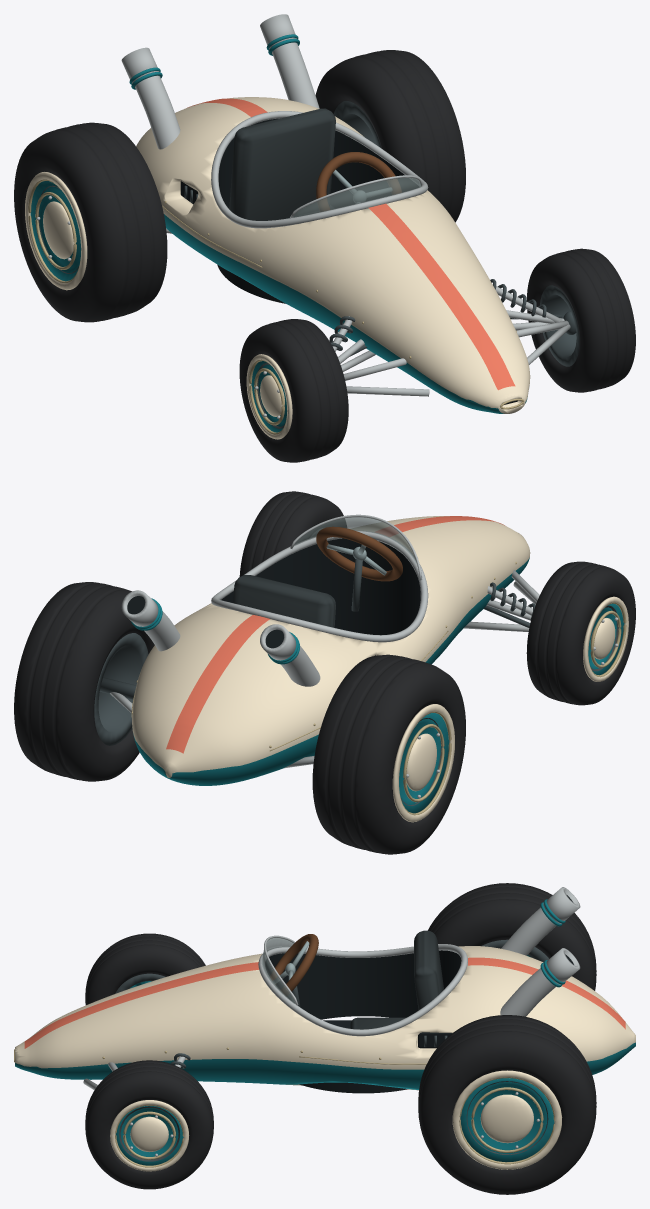
The model's file is streamliner.glb.
3 views of the same model, one above another, from view 1: azimuth 30°, elevation 25°; view 2: azimuth 150°, elevation 25°; view 3: azimuth 270°, elevation 25° (orthographic). The views are drawn at different scales.
Visible parts, largest first — view 1: Streamliner_Static, Streamliner_Spin_RL_Mesh, Streamliner_Spin_RR_Mesh, Streamliner_Spin_FL_Mesh, Streamliner_Spin_FR_Mesh, Streamliner_Seat_Root_Mesh, Streamliner_SteeringWheel_Spin_Mesh; view 2: Streamliner_Static, Streamliner_Spin_RL_Mesh, Streamliner_Spin_RR_Mesh, Streamliner_Spin_FL_Mesh, Streamliner_Spin_FR_Mesh, Streamliner_Seat_Root_Mesh, Streamliner_SteeringWheel_Spin_Mesh; view 3: Streamliner_Static, Streamliner_Spin_RR_Mesh, Streamliner_Spin_FR_Mesh, Streamliner_Spin_RL_Mesh, Streamliner_Spin_FL_Mesh, Streamliner_Seat_Root_Mesh, Streamliner_SteeringWheel_Spin_Mesh.
Part boxes in pixels (x1,y1,x2,y2): Streamliner_Static: (121,14,576,413); Streamliner_Spin_RL_Mesh: (14,122,167,322); Streamliner_Spin_RR_Mesh: (315,50,465,222); Streamliner_Spin_FL_Mesh: (239,319,348,462); Streamliner_Spin_FR_Mesh: (526,248,635,392); Streamliner_Seat_Root_Mesh: (229,108,335,220); Streamliner_SteeringWheel_Spin_Mesh: (316,152,401,211); Streamliner_Static: (99,514,539,785); Streamliner_Spin_RL_Mesh: (312,654,465,854); Streamliner_Spin_RR_Mesh: (14,582,154,781); Streamliner_Spin_FL_Mesh: (526,561,635,705); Streamliner_Spin_FR_Mesh: (239,491,346,576); Streamliner_Seat_Root_Mesh: (233,575,335,627); Streamliner_SteeringWheel_Spin_Mesh: (316,526,402,581); Streamliner_Static: (14,887,635,1093); Streamliner_Spin_RR_Mesh: (418,1015,596,1194); Streamliner_Spin_FR_Mesh: (85,1060,213,1189); Streamliner_Spin_RL_Mesh: (428,883,596,990); Streamliner_Spin_FL_Mesh: (85,933,205,1004); Streamliner_Seat_Root_Mesh: (350,930,443,1029); Streamliner_SteeringWheel_Spin_Mesh: (270,934,318,995).
Bounding box in the file's own units: 2.65 × 1.5 × 4.21.
